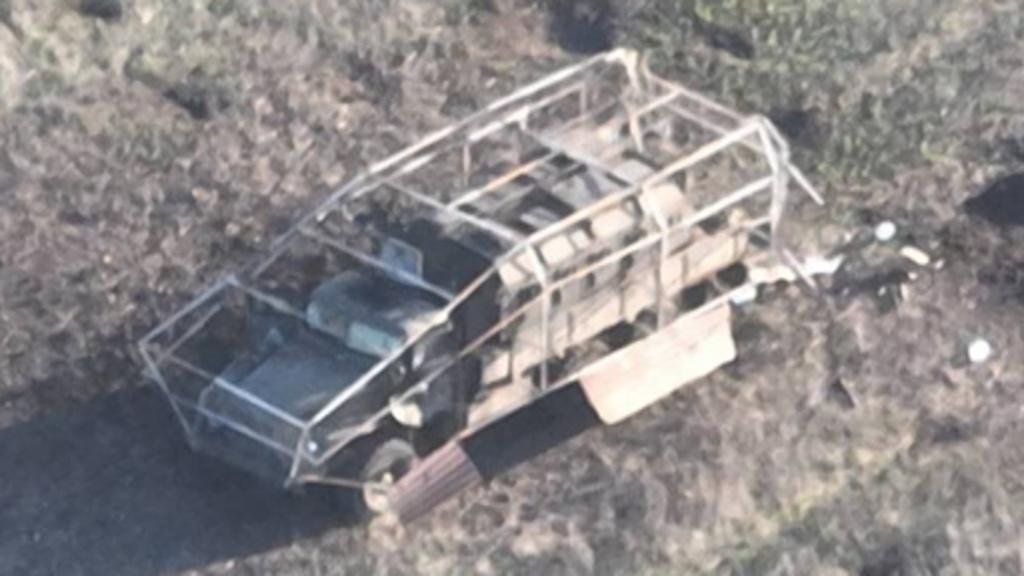TRUCK: (138, 46, 794, 518)
